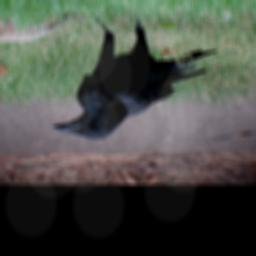Crow: (49, 14, 218, 140)
